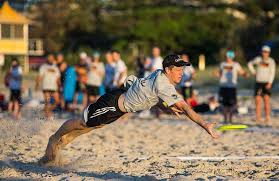disc: (217, 123, 249, 132)
